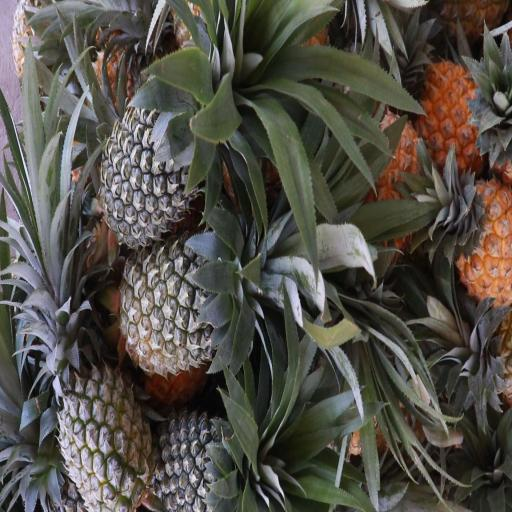------------------------------: (121, 240, 245, 372), (59, 360, 152, 512)
Pineapple - v8 v1: (421, 58, 502, 169), (448, 172, 512, 305)
